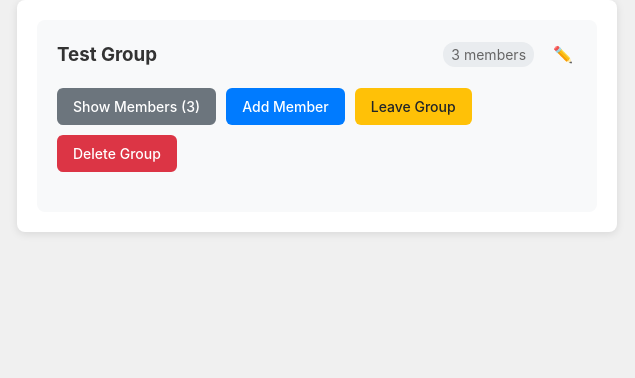
GroupManager › shows add member form for admin users
The width and height of the screenshot is (635, 378).
Click the button "Add Member" at {"x": 286, "y": 106}, box [226,88,345,125]
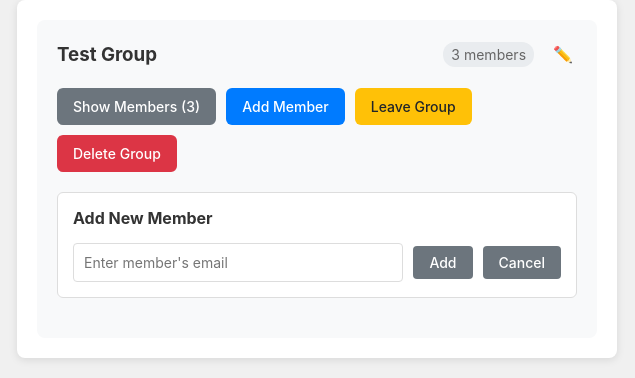
expect the heading "Add New Member" is shown: met, box [73,208,213,228]
expect the field with placeholder "Enter member's email" is shown: met, box [73,243,403,282]
